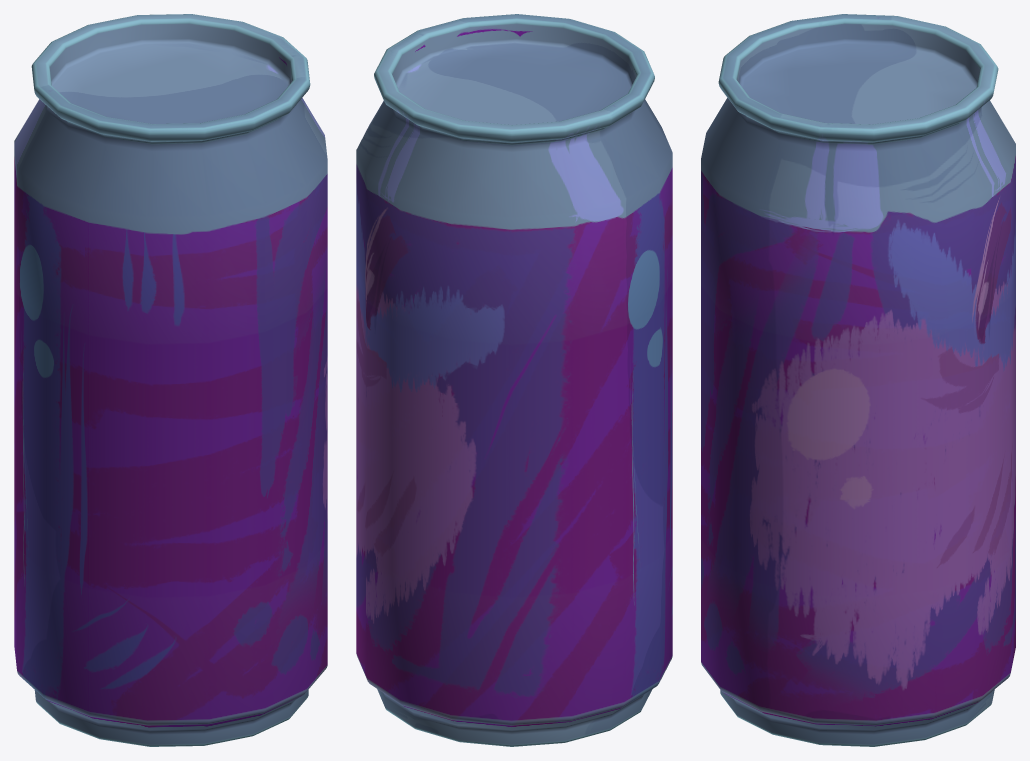
The model's file is puszka.fbx.
The picture shows the model from 3 angles, left to right: view 1: azimuth 30°, elevation 25°; view 2: azimuth 150°, elevation 25°; view 3: azimuth 270°, elevation 25°; orthographic projection.
Visible parts, largest first — view 1: Puszka_zgniecenie_wertykalne; view 2: Puszka_zgniecenie_wertykalne; view 3: Puszka_zgniecenie_wertykalne.
Part boxes in pixels (<box>): Puszka_zgniecenie_wertykalne: <box>14,14,327,746</box>; Puszka_zgniecenie_wertykalne: <box>356,14,672,746</box>; Puszka_zgniecenie_wertykalne: <box>701,14,1015,746</box>.
Size of the model in its own units: 7.72 by 16.72 by 7.72.
